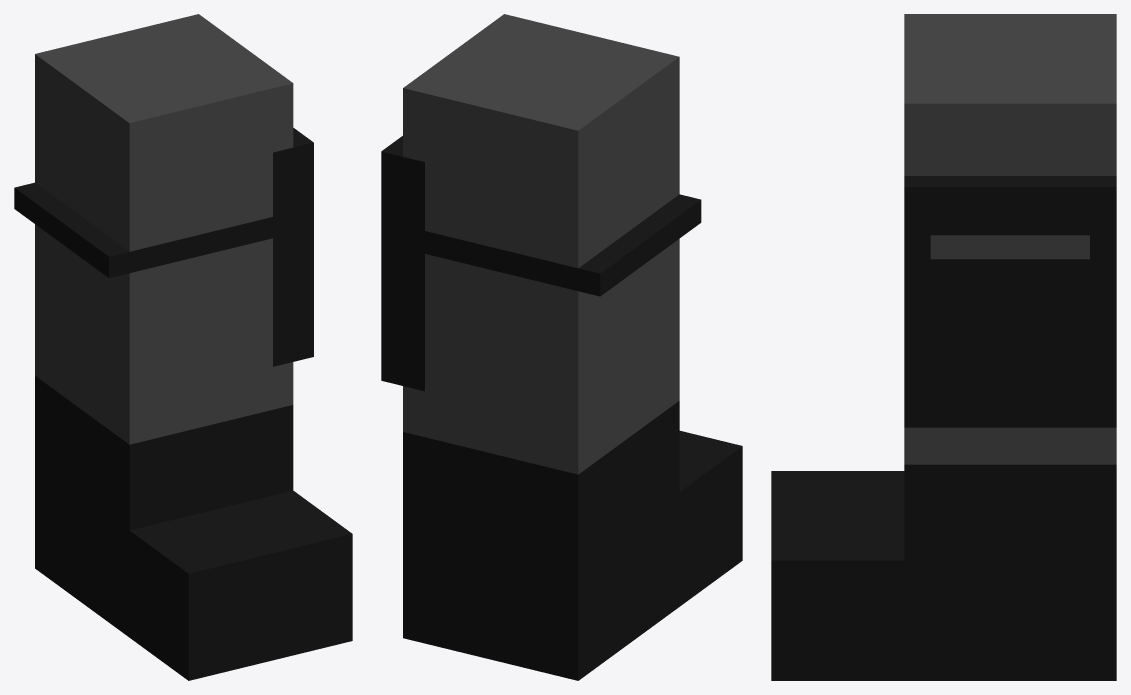
File: Jason_Pierna.obj
The picture shows the model from 3 angles, left to right: view 1: azimuth 30°, elevation 25°; view 2: azimuth 150°, elevation 25°; view 3: azimuth 270°, elevation 25°; orthographic projection. The views are drawn at different scales.
Parts seen in each view (by area): view 1: Jason_Pierna; view 2: Jason_Pierna; view 3: Jason_Pierna.
Part boxes in pixels (<box>): Jason_Pierna: <box>14,14,352,680</box>; Jason_Pierna: <box>381,14,742,680</box>; Jason_Pierna: <box>771,14,1116,680</box>.
Bounding box in the file's own units: 1 × 2.4 × 1.3.
Materials: 1 (1 with a texture image).
